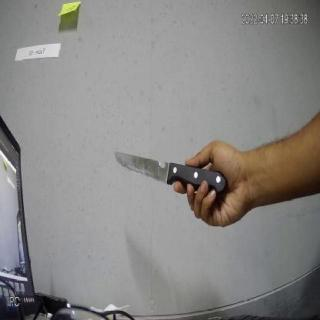knife: (106, 139, 228, 199)
